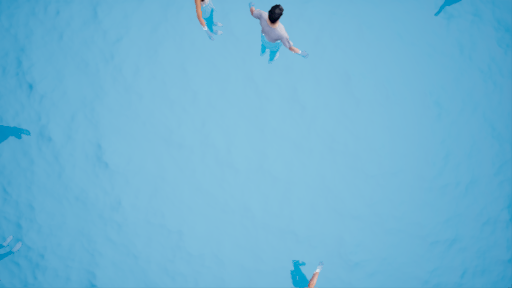person: (243, 4, 309, 62), (275, 254, 328, 288), (191, 1, 231, 44)
